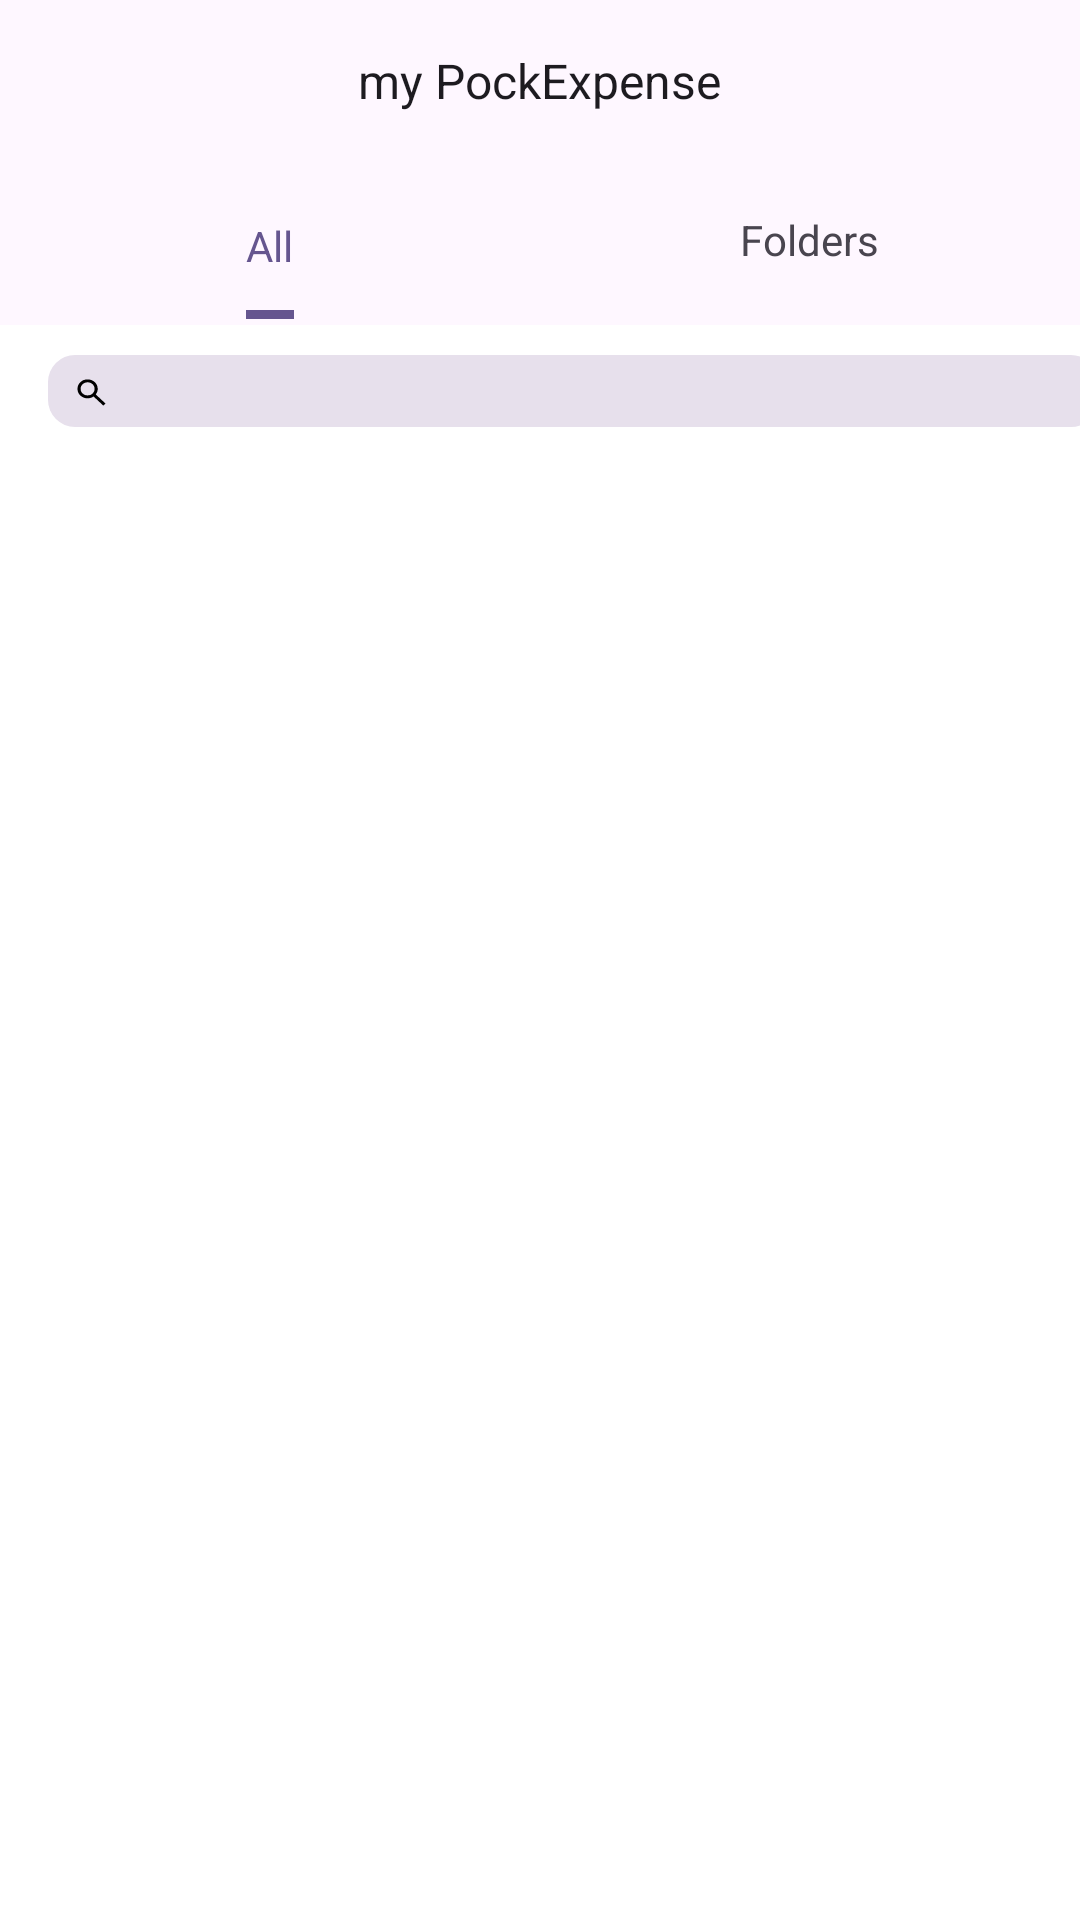

Named icons in this screenshot (1080w x 1920h) and their centers, [x,y]:
search: [91,392]
